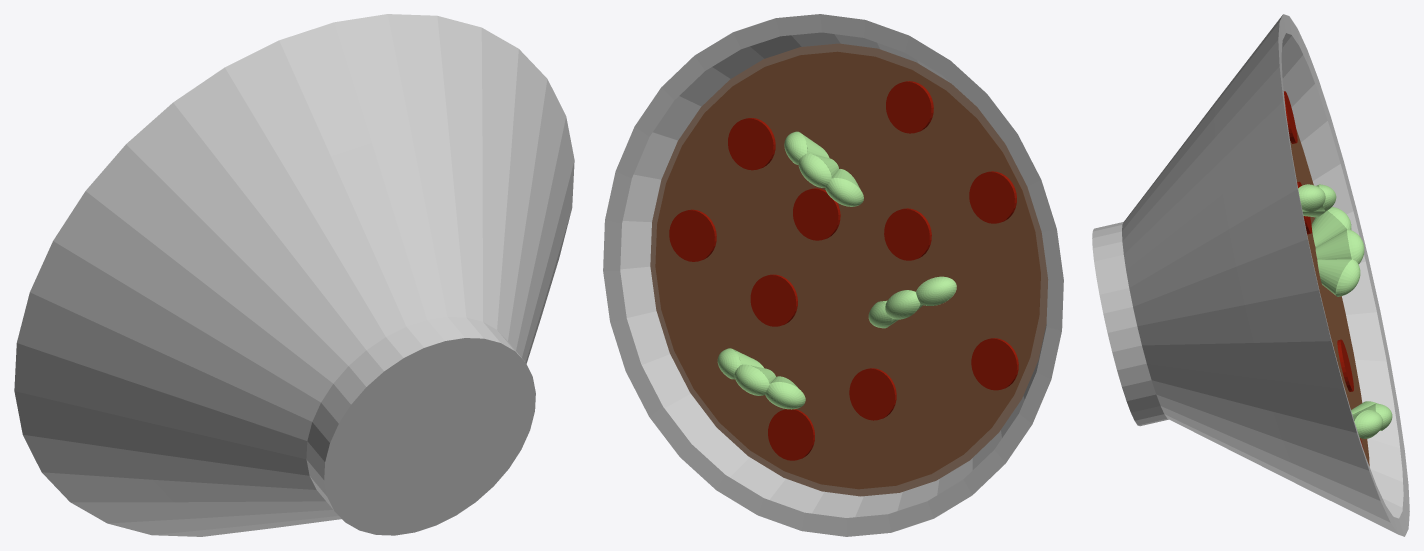
File: food_4_laksa.fbx
3 views of the same model, side by side, from view 1: azimuth 30°, elevation 25°; view 2: azimuth 150°, elevation 25°; view 3: azimuth 270°, elevation 25° (orthographic). The views are drawn at different scales.
Parts seen in each view (by area): view 1: food_laksa; view 2: food_laksa; view 3: food_laksa.
Boxes of the visible parts, x1,y1,x2,y2 form: food_laksa: [14, 14, 574, 536]; food_laksa: [603, 14, 1063, 536]; food_laksa: [1092, 14, 1409, 536].
Bounding box in the file's own units: 105 × 102 × 62.2.
